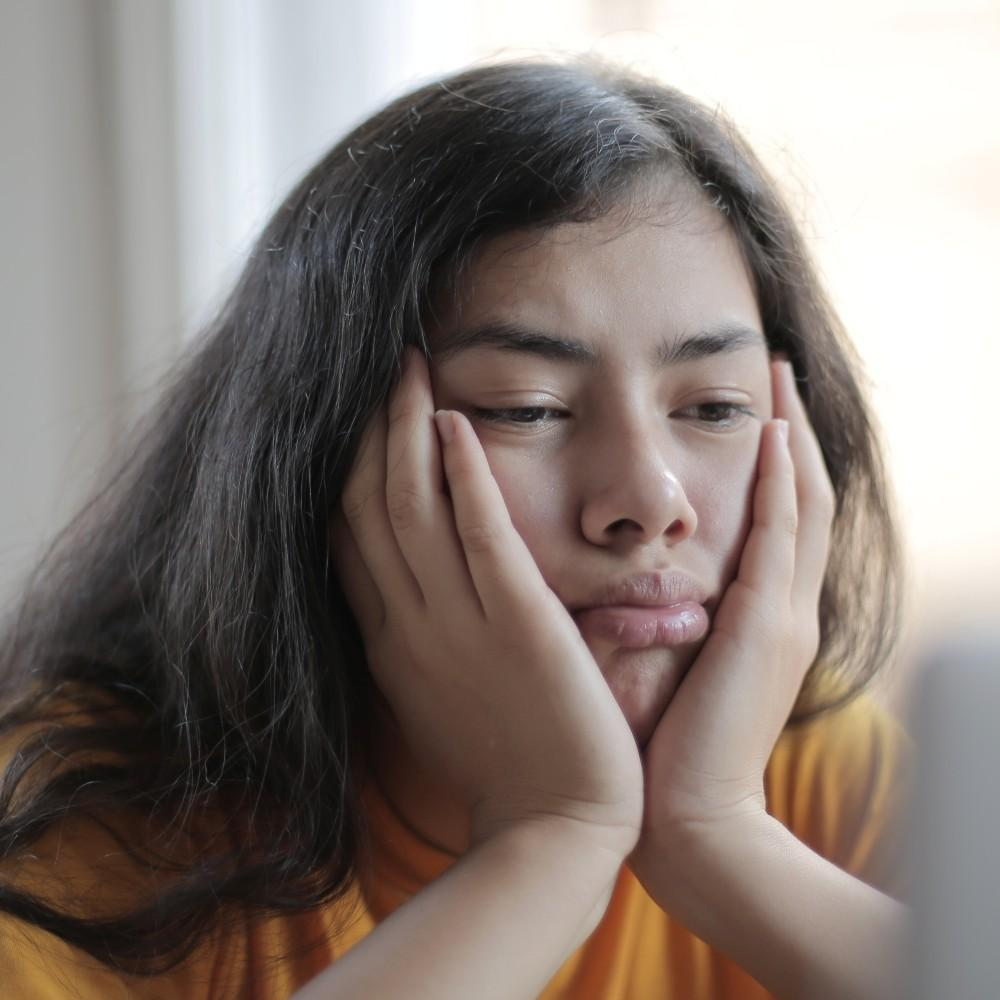Persons: (184, 57, 954, 891)
